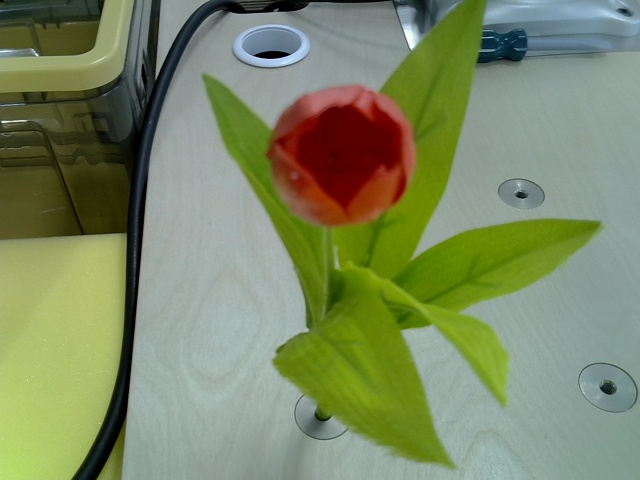튤립: (267, 84, 417, 224)
